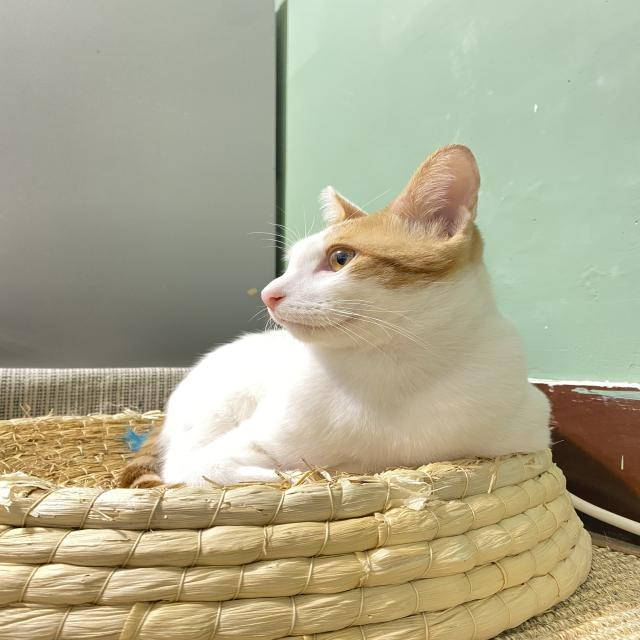cat1: (162, 179, 574, 484)
